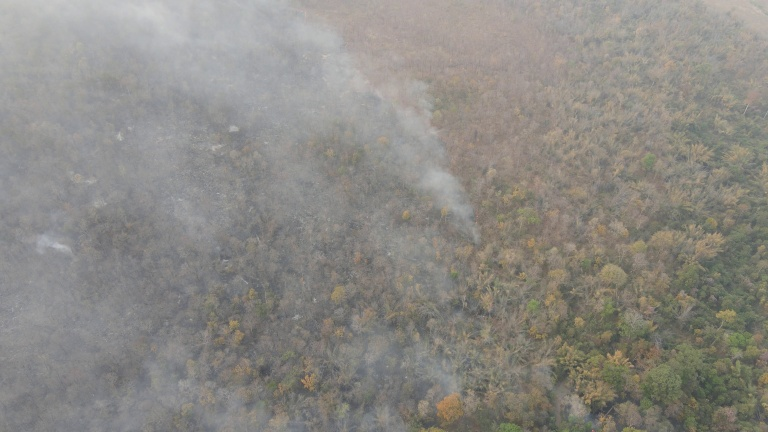smoke: (1, 1, 493, 431), (526, 361, 594, 417)
